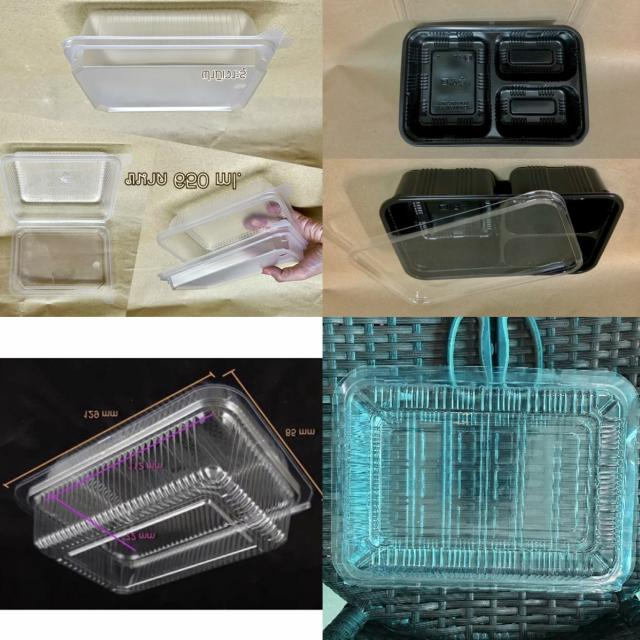plastik: (332, 366, 640, 593), (4, 377, 315, 594), (382, 167, 623, 281), (348, 190, 582, 305), (400, 25, 588, 146), (62, 11, 285, 111), (0, 151, 131, 303), (157, 181, 307, 290)
